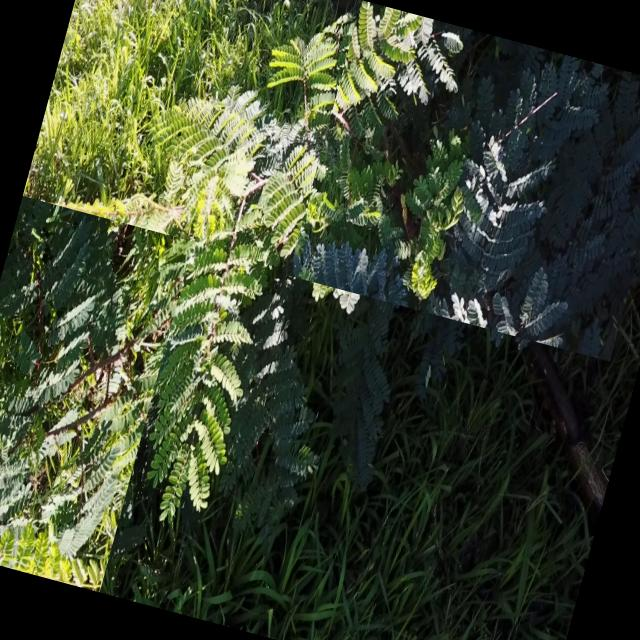Mysore-Thorn-Weed: (0, 0, 474, 491), (287, 0, 640, 361), (0, 196, 193, 592)
